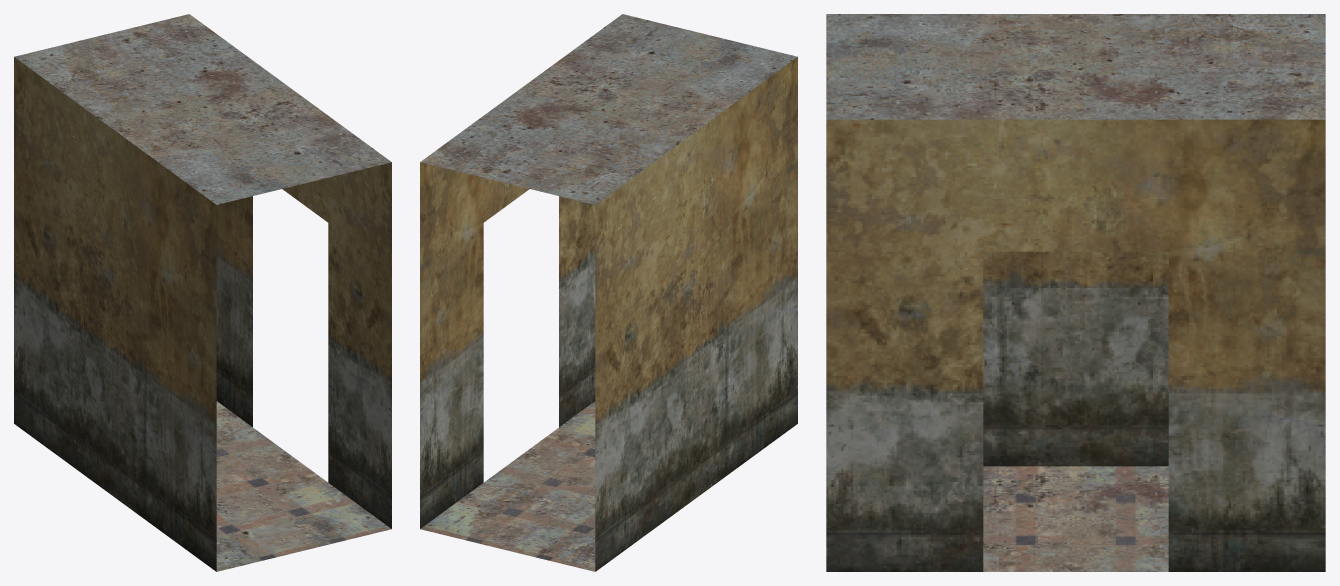
The model's file is _Corridor_part25.FBX.
3 renders of one model, left to right at view 1: azimuth 30°, elevation 25°; view 2: azimuth 150°, elevation 25°; view 3: azimuth 270°, elevation 25°, orthographic. The views are drawn at different scales.
Visible parts, largest first — view 1: Corridor_Part025; view 2: Corridor_Part025; view 3: Corridor_Part025.
Part boxes in pixels (x1,y1,x2,y2): Corridor_Part025: [14, 14, 391, 571]; Corridor_Part025: [420, 14, 797, 571]; Corridor_Part025: [826, 14, 1325, 571].
Bounding box in the file's own units: 127 × 254 × 254.
Materials: 3 (3 with a texture image).
